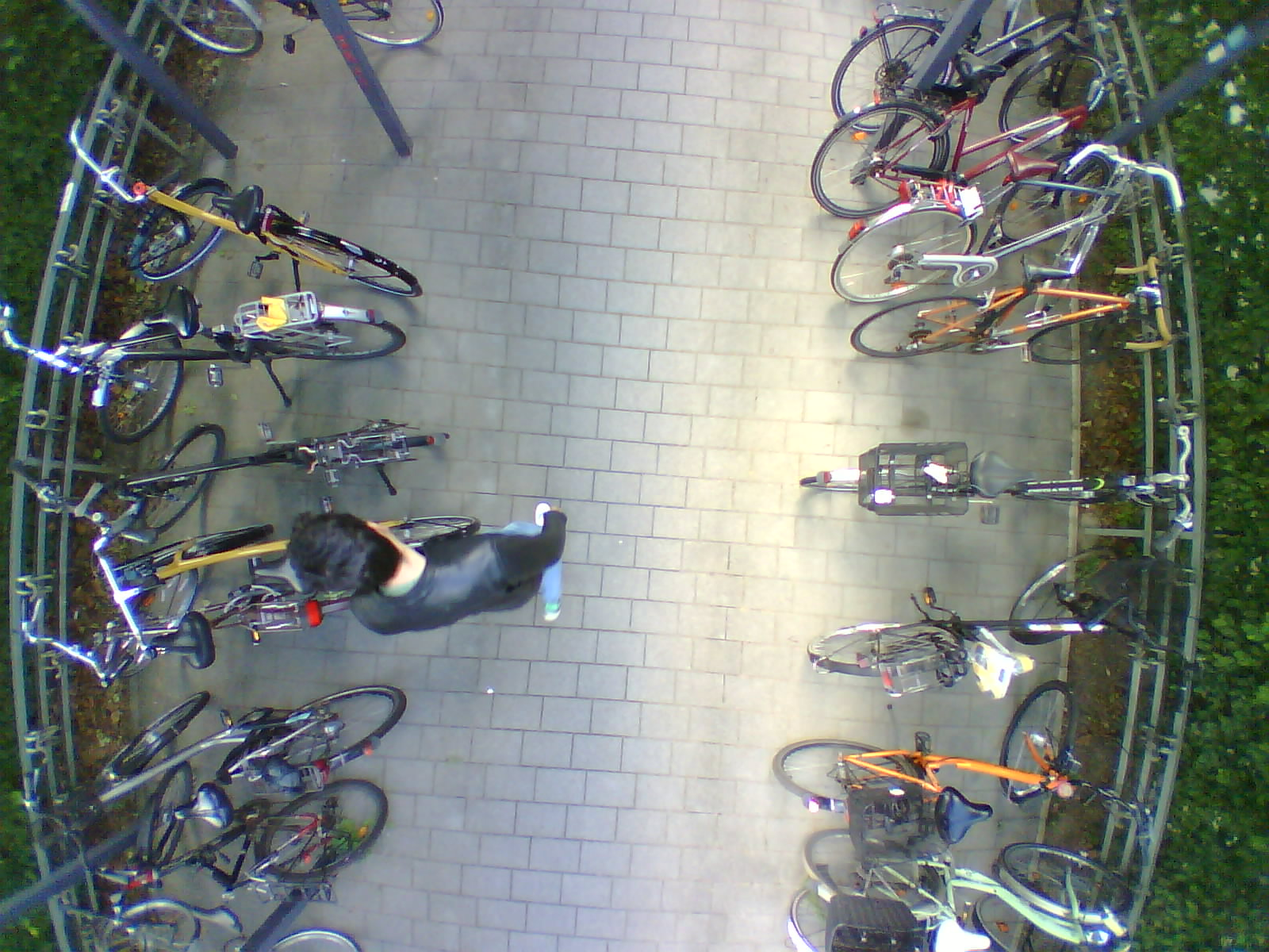bicylce: (94, 692, 408, 916), (86, 490, 482, 658), (786, 400, 1200, 551), (807, 40, 1152, 221), (773, 688, 1176, 841), (803, 548, 1202, 701), (830, 141, 1190, 309), (60, 779, 389, 942), (79, 299, 407, 446), (97, 414, 447, 547), (113, 164, 425, 301), (85, 567, 416, 696), (848, 248, 1187, 367), (830, 0, 1111, 133), (800, 826, 1148, 920), (784, 887, 1135, 952)
saddle: (974, 631, 1037, 702), (148, 608, 217, 670), (937, 776, 996, 848), (960, 443, 1037, 498), (134, 281, 203, 340), (247, 541, 320, 595), (171, 785, 233, 835), (206, 182, 265, 232), (1001, 141, 1061, 186), (1016, 245, 1076, 290), (952, 38, 1006, 86), (934, 912, 991, 952), (187, 900, 246, 935)
